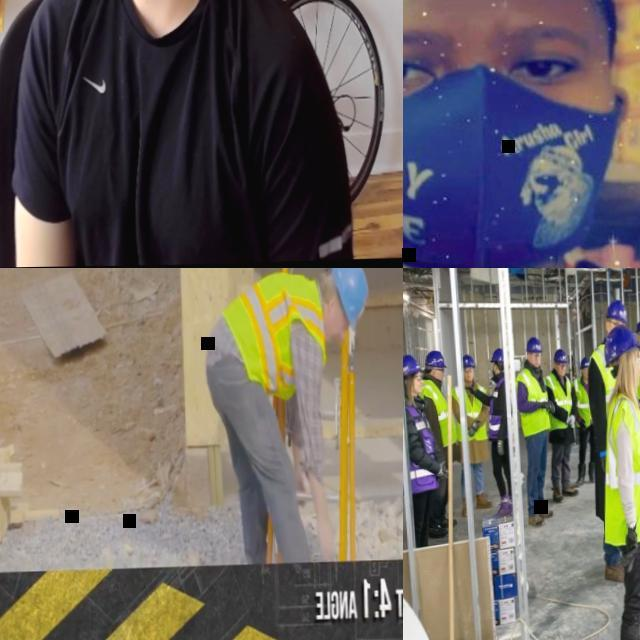helmet: (326, 268, 369, 337), (602, 323, 640, 369), (604, 299, 628, 325), (403, 353, 424, 377), (424, 350, 446, 367), (524, 336, 544, 353), (552, 348, 568, 364), (488, 348, 502, 363), (578, 356, 590, 371), (462, 354, 474, 368), (633, 320, 640, 334), (566, 354, 574, 359)
vest: (221, 272, 326, 394), (601, 390, 640, 544), (403, 401, 439, 495), (418, 378, 456, 447), (514, 368, 550, 438), (588, 342, 618, 424), (451, 383, 487, 441), (544, 372, 573, 432), (486, 376, 506, 442), (570, 377, 592, 428), (635, 349, 640, 399), (568, 362, 576, 380)
